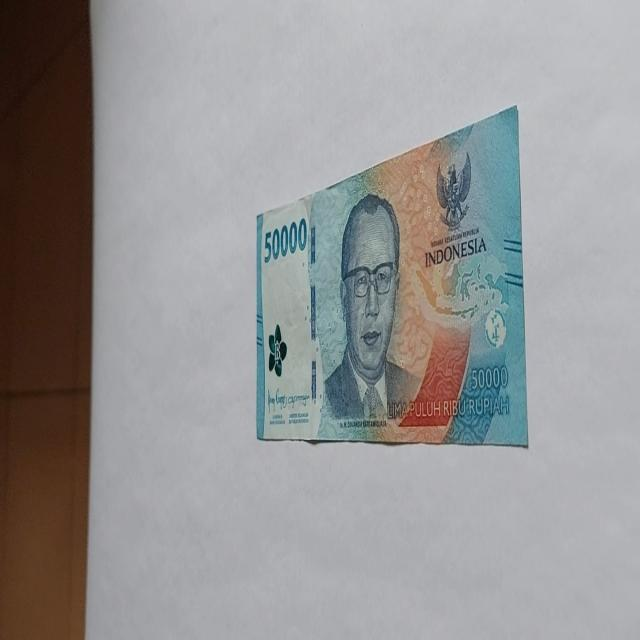lima puluh ribu rupiah: (254, 104, 528, 448), (317, 191, 423, 429)
